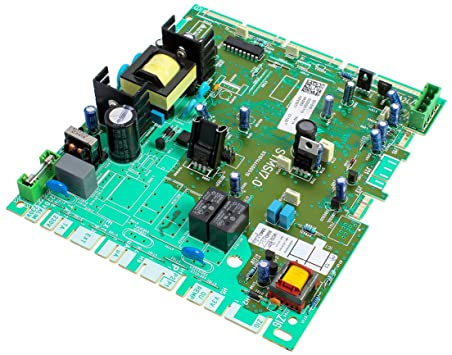capacitor: (102, 101, 143, 164), (236, 101, 255, 139), (341, 75, 358, 110), (228, 168, 246, 199)
